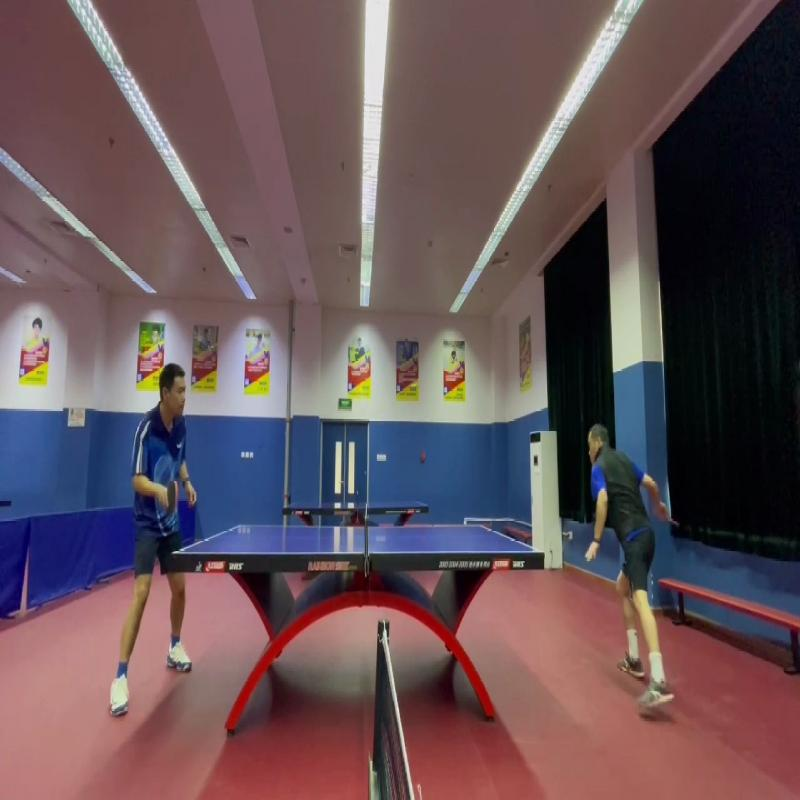bats: (155, 473, 186, 530)
